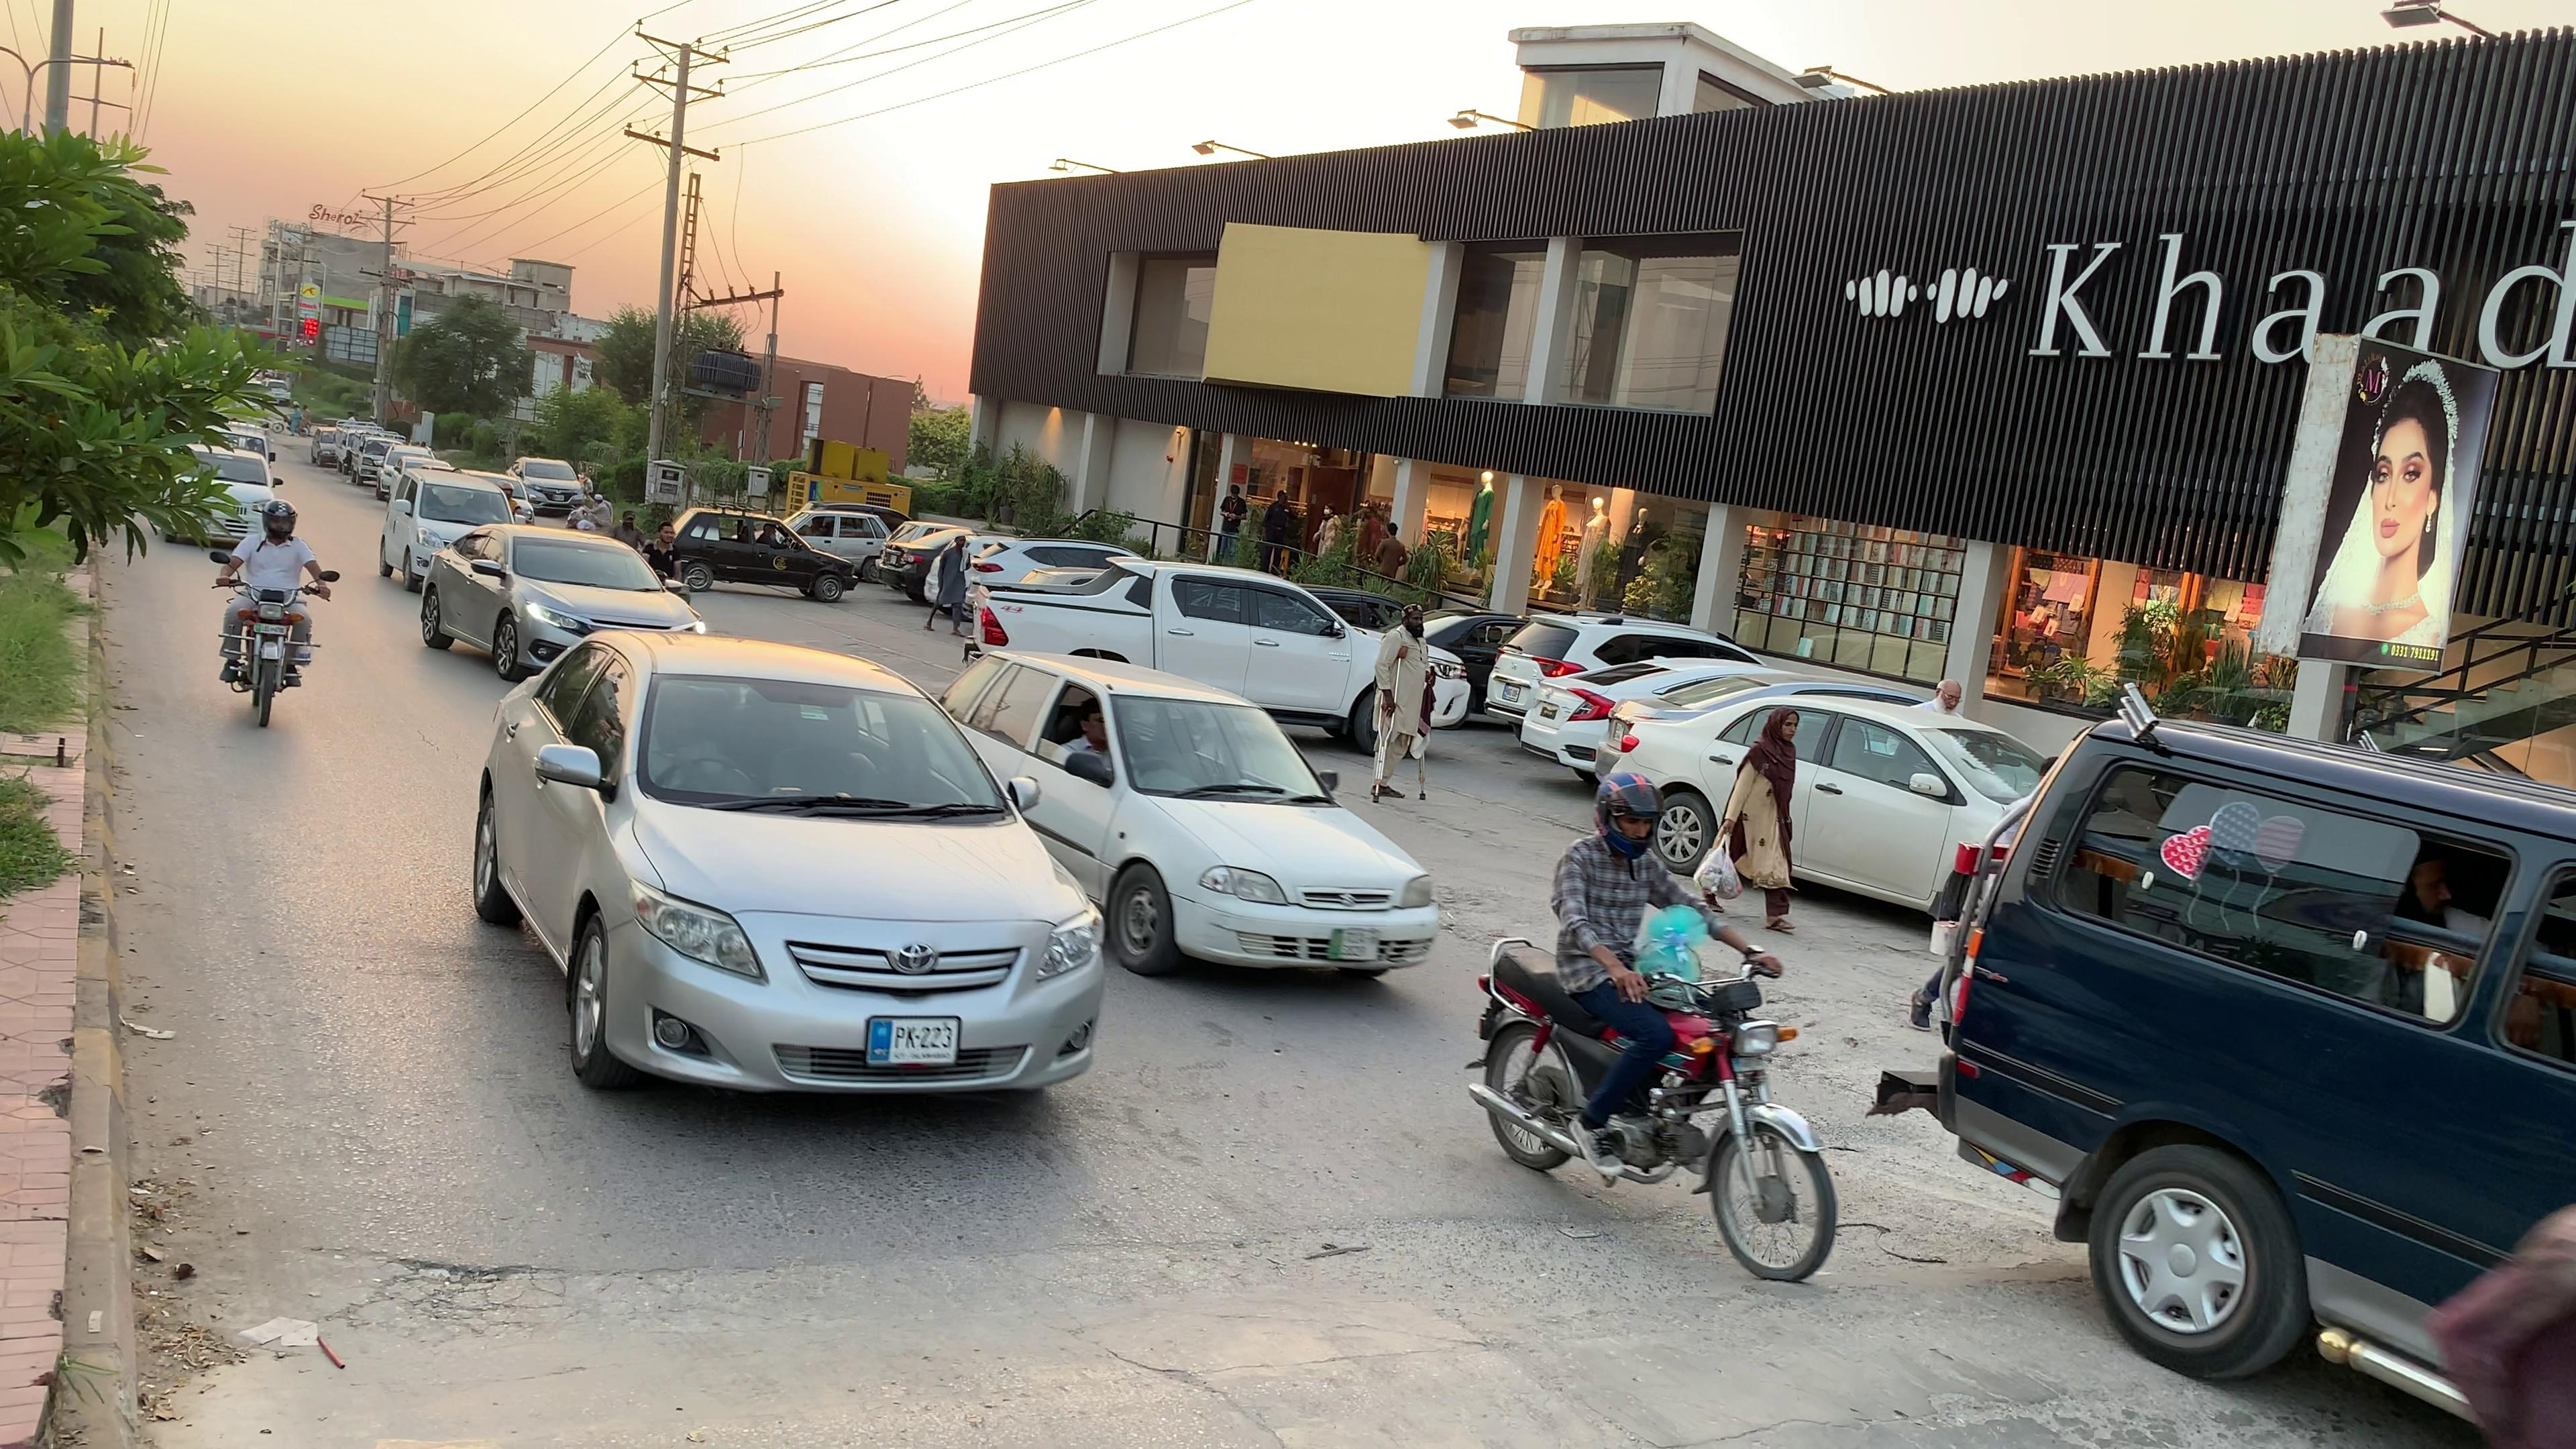windshield: (630, 663, 1026, 821), (1106, 694, 1348, 810)
